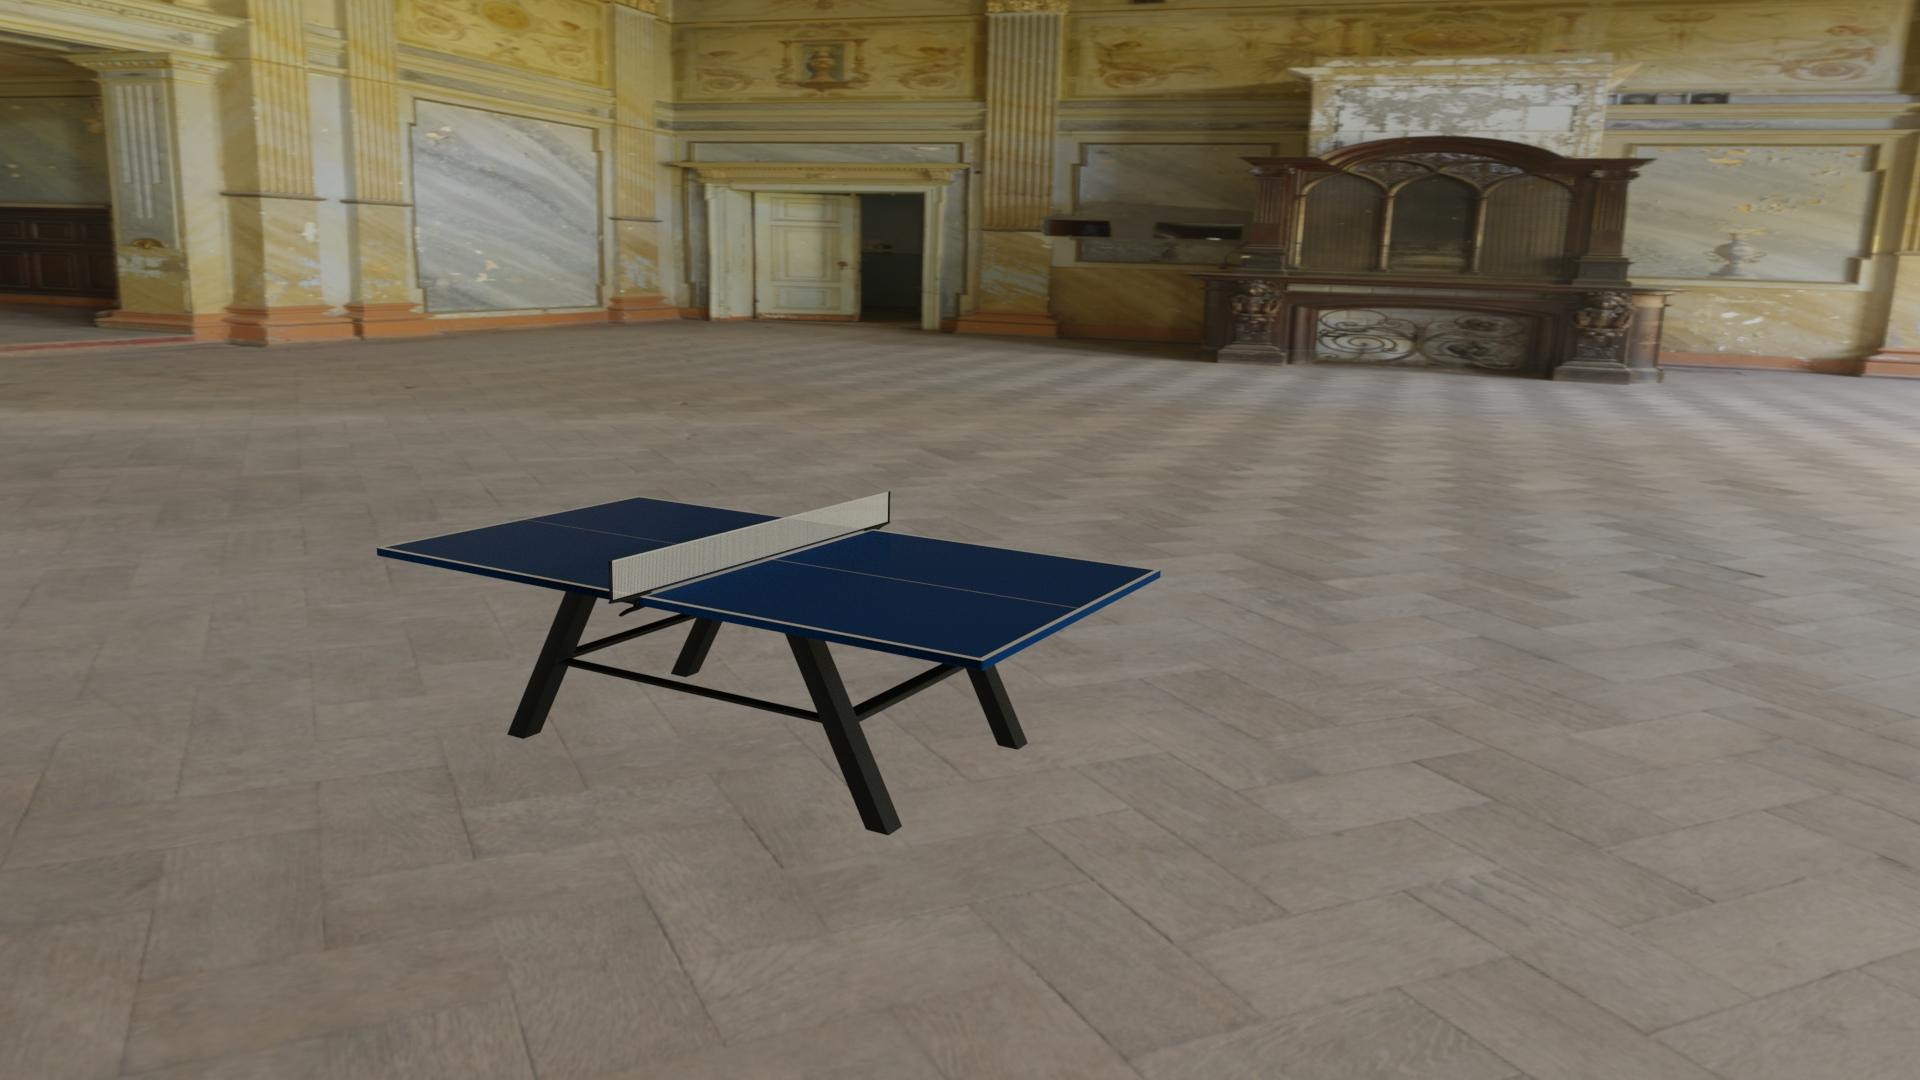table: (384, 497, 1155, 658)
